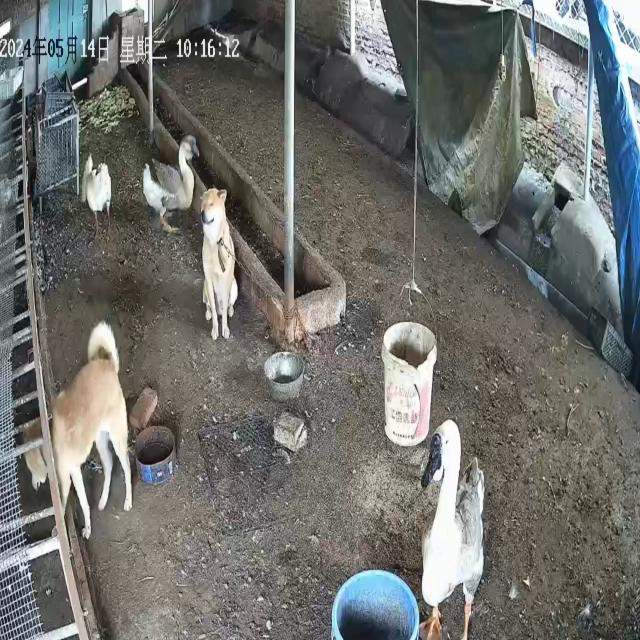dog: (23, 321, 134, 541), (200, 187, 239, 342)
